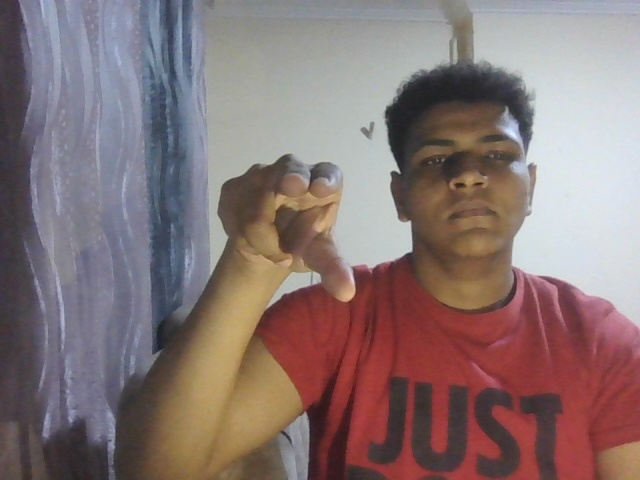no: (212, 137, 372, 319)
